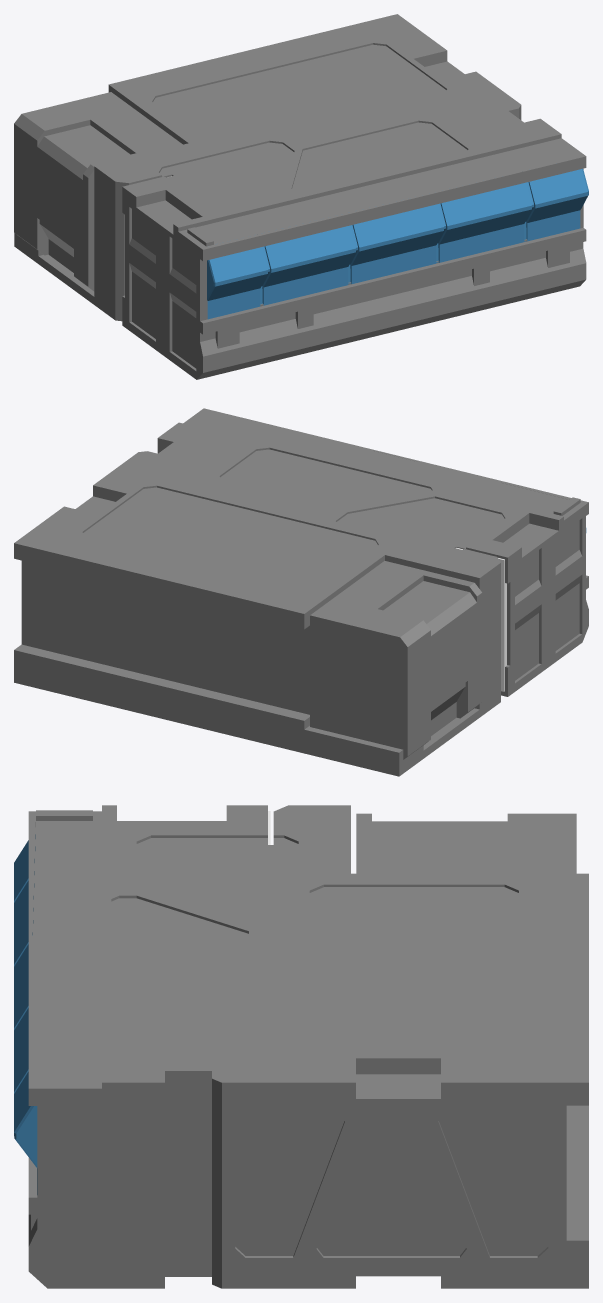
Rendered from Building_C_Bottom.fbx.
3 views of the same model, one above another, from view 1: azimuth 30°, elevation 25°; view 2: azimuth 150°, elevation 25°; view 3: azimuth 270°, elevation 25° (orthographic). The views are drawn at different scales.
Parts seen in each view (by area): view 1: U_Building_C_Bottom, Glass_Blue; view 2: U_Building_C_Bottom, Emissive_Blue; view 3: U_Building_C_Bottom, Glass_Blue.
Part boxes in pixels (box(x1,y1,x2,y2)): U_Building_C_Bottom: box(14, 14, 586, 379); Glass_Blue: box(207, 168, 588, 319); U_Building_C_Bottom: box(14, 408, 588, 776); Emissive_Blue: box(455, 547, 506, 691); U_Building_C_Bottom: box(28, 805, 588, 1288); Glass_Blue: box(14, 834, 37, 1194).
Bounding box in the file's own units: 10694 × 3660 × 9260.
